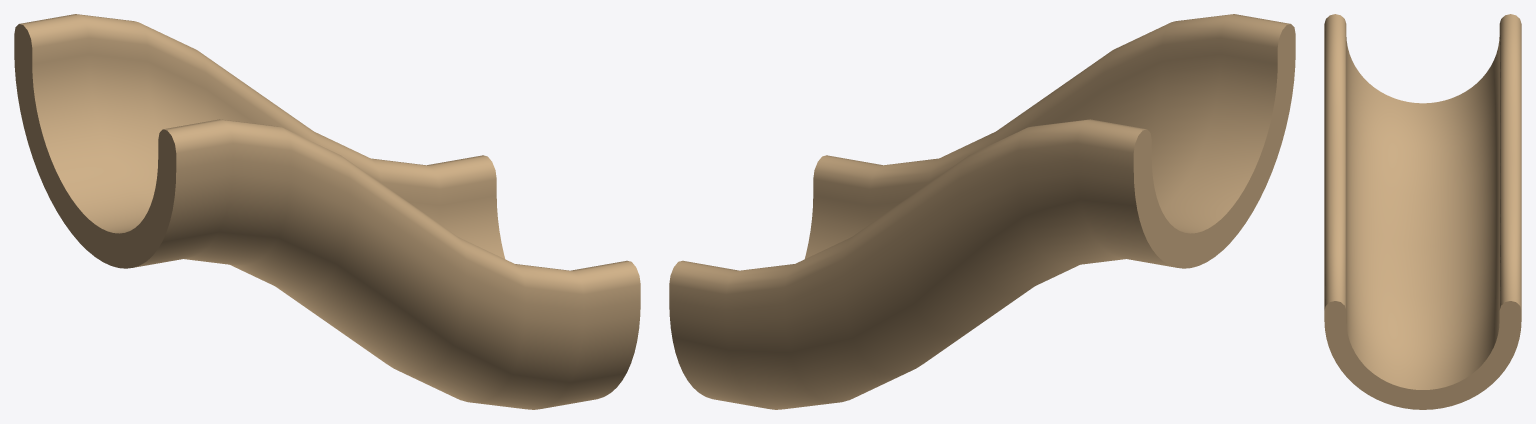
Rendered from rail_slope_steep_l3.glb.
3 renders of one model, left to right at view 1: azimuth 30°, elevation 25°; view 2: azimuth 150°, elevation 25°; view 3: azimuth 270°, elevation 25°, orthographic. The views are drawn at different scales.
Parts seen in each view (by area): view 1: rail_slope_steep_l3_lod0; view 2: rail_slope_steep_l3_lod0; view 3: rail_slope_steep_l3_lod0.
Boxes of the visible parts, <box> form: rail_slope_steep_l3_lod0: <box>14,14,640,409</box>; rail_slope_steep_l3_lod0: <box>669,14,1295,409</box>; rail_slope_steep_l3_lod0: <box>1324,14,1521,409</box>.
Size of what is drawn, in the model's own units: 0.0596 by 0.052 by 0.036.
